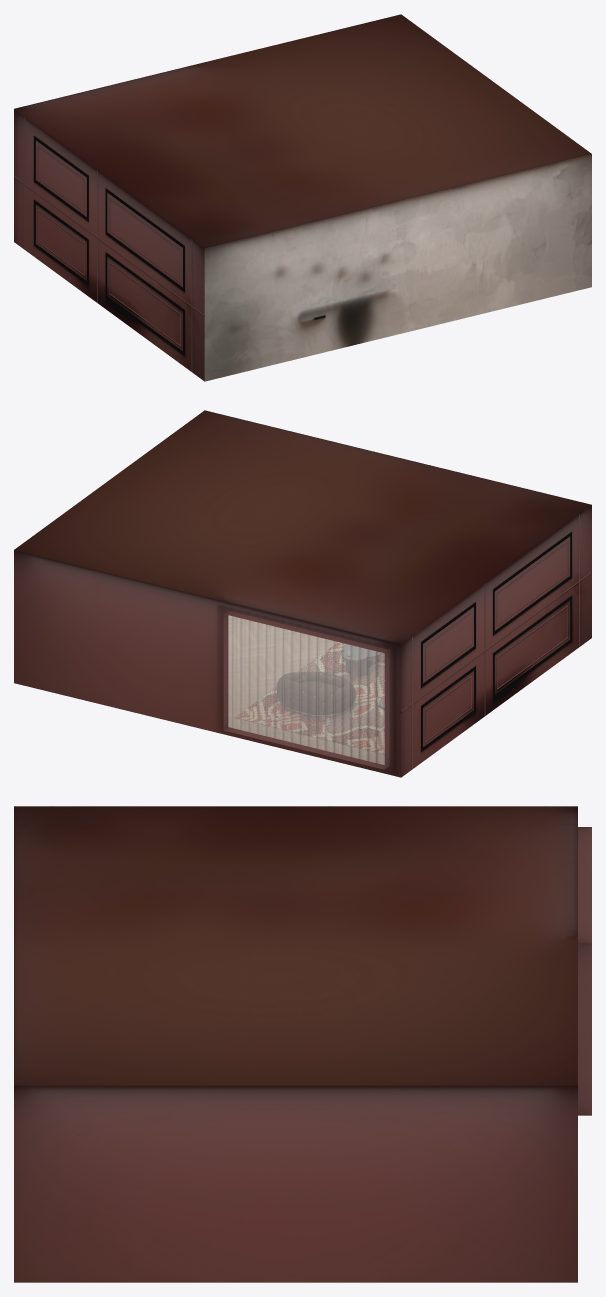
3 views of the same model, one above another, from view 1: azimuth 30°, elevation 25°; view 2: azimuth 150°, elevation 25°; view 3: azimuth 270°, elevation 25° (orthographic). The views are drawn at different scales.
Parts seen in each view (by area): view 1: house, wall; view 2: house, curtain, floor, carpet, sofa, table; view 3: house.
Boxes of the visible parts, x1,y1,x2,y2 form: house: (14, 14, 591, 381); wall: (204, 154, 591, 381); house: (14, 410, 591, 777); curtain: (228, 615, 384, 765); floor: (228, 616, 384, 764); carpet: (235, 642, 384, 754); sofa: (277, 672, 355, 716); table: (342, 644, 384, 709); house: (14, 806, 591, 1282).
Bounding box in the file's own units: 12.17 × 4.01 × 10.63.
Materials: 19 (19 with a texture image).
